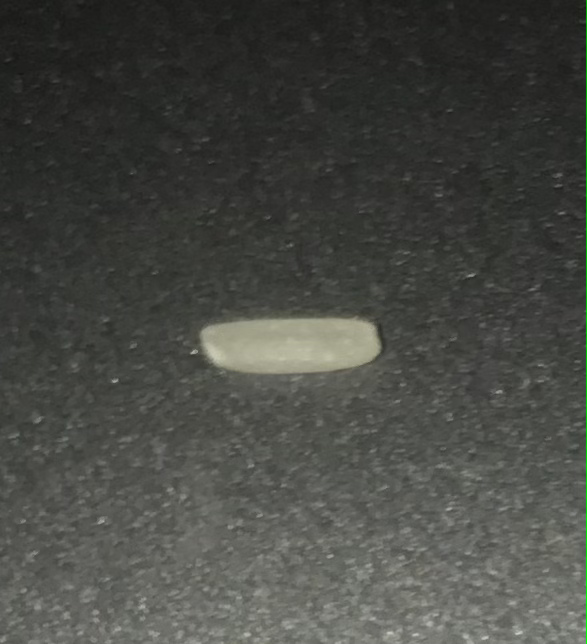Gao Tam Thom: (194, 292, 400, 384)
